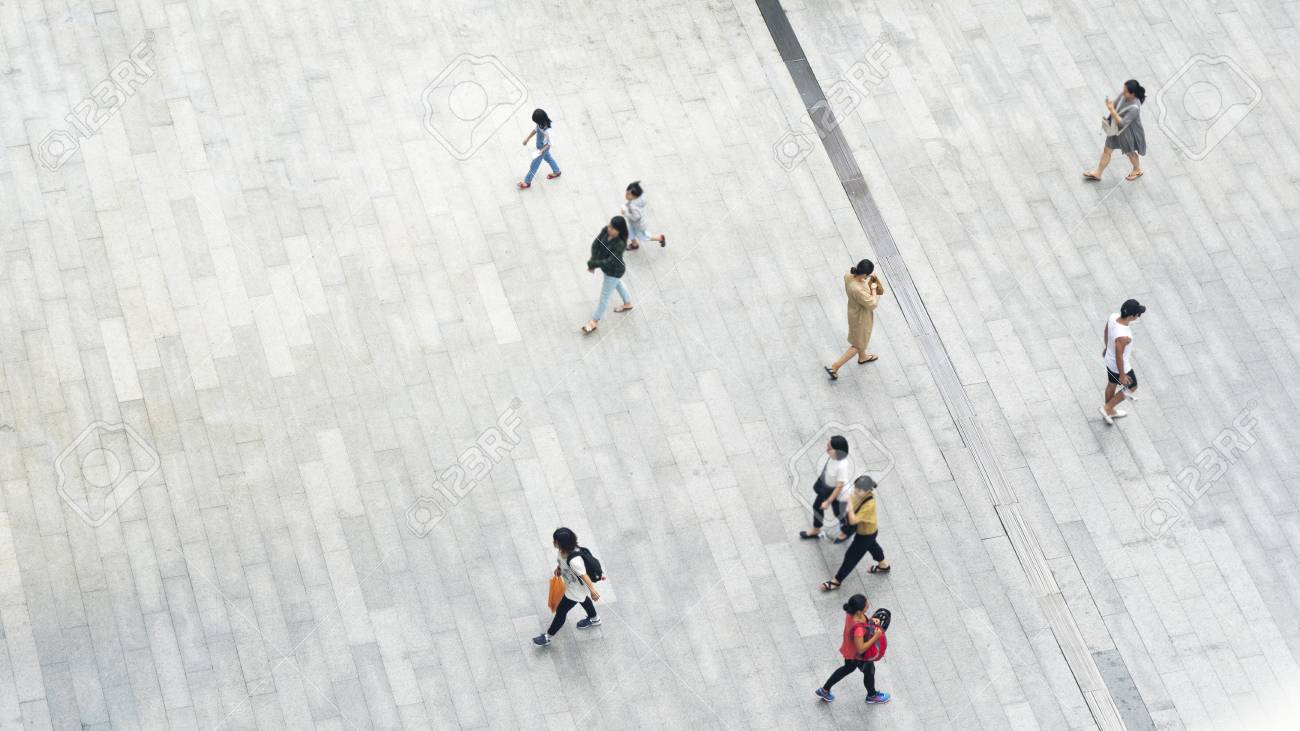person: (815, 592, 900, 709), (1076, 70, 1153, 190), (530, 528, 605, 647), (820, 476, 891, 596), (824, 241, 879, 382), (801, 435, 861, 548), (584, 214, 636, 337), (1101, 283, 1143, 431), (517, 108, 564, 189), (622, 179, 668, 250)
